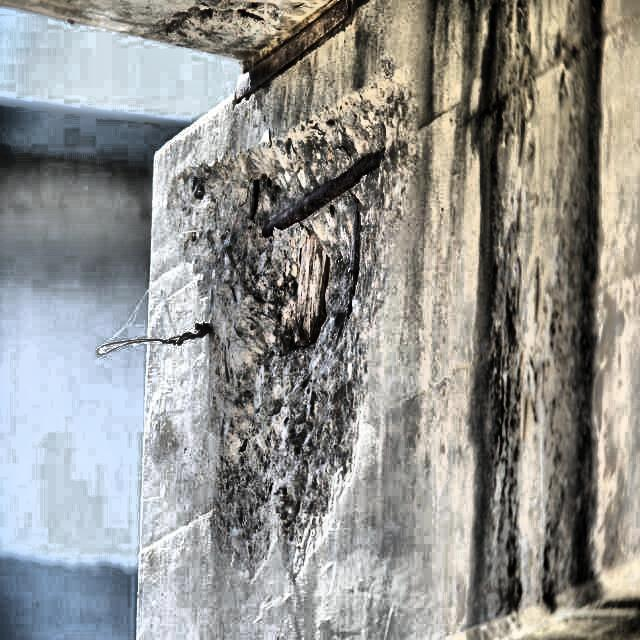D0w0: (263, 150, 383, 236)
